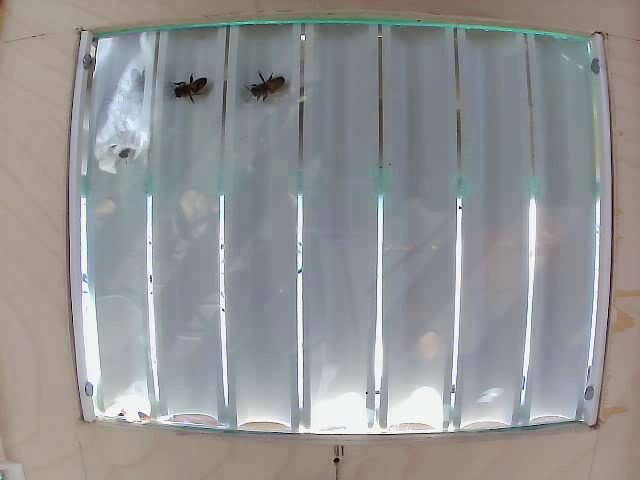bee: (244, 68, 285, 110), (171, 69, 210, 102)
